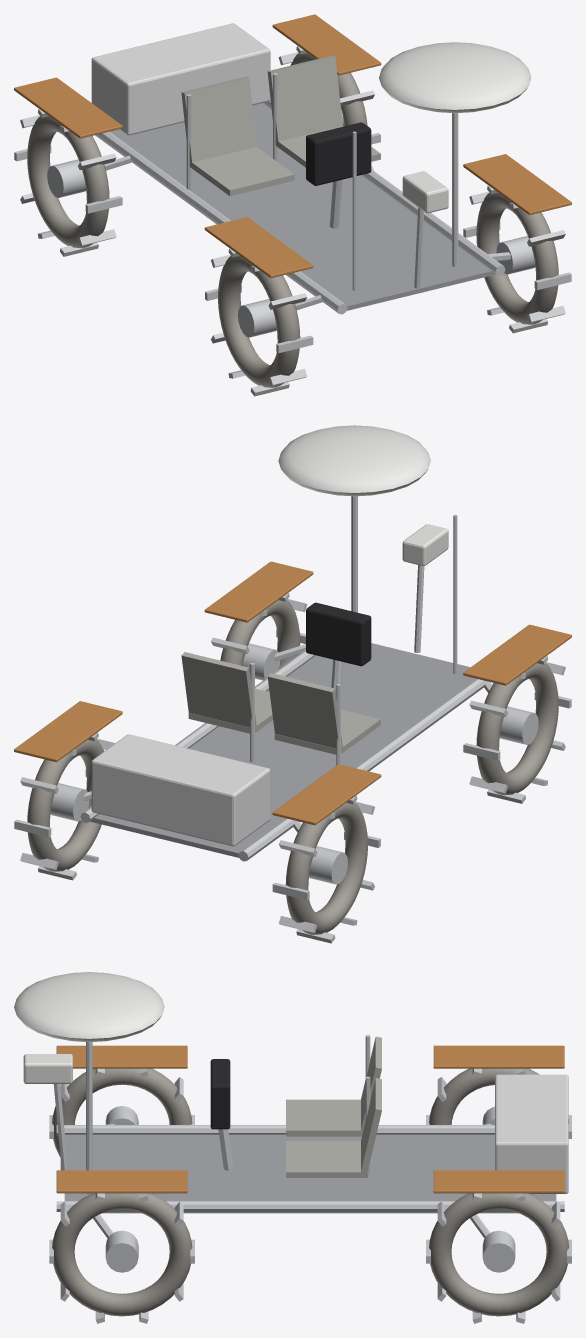
File: lrv.glb
3 renders of one model, top to bottom at view 1: azimuth 30°, elevation 25°; view 2: azimuth 150°, elevation 25°; view 3: azimuth 270°, elevation 25°, orthographic.
Visible parts, largest first — view 1: floor, rear_pallet, hga_umbrella, wheel_rl_tyre, wheel_fl_tyre, seat_back_-0.3, wheel_fr_tyre, seat_back_+0.3, console, wheel_fl_fender, wheel_rl_fender, wheel_fr_fender (+15 smaller); view 2: floor, rear_pallet, hga_umbrella, wheel_fl_tyre, wheel_rl_tyre, seat_back_+0.3, seat_back_-0.3, wheel_rr_tyre, console, wheel_fr_fender, wheel_rl_fender, wheel_fl_fender (+13 smaller); view 3: floor, hga_umbrella, wheel_fr_tyre, wheel_rr_tyre, rear_pallet, chassis_rail_+1, wheel_fl_tyre, chassis_rail_-1, wheel_rl_fender, wheel_rr_fender, wheel_fr_fender, seat_-0.3 (+12 smaller).
Part boxes in pixels (box(x1,y1,x2,y2)): floor: box(110, 103, 495, 310); rear_pallet: box(91, 23, 270, 135); hga_umbrella: box(379, 42, 531, 113); wheel_rl_tyre: box(27, 116, 109, 248); wheel_fl_tyre: box(218, 255, 300, 387); seat_back_-0.3: box(181, 76, 256, 164); wheel_fr_tyre: box(476, 192, 558, 324); seat_back_+0.3: box(267, 55, 342, 143); console: box(306, 122, 371, 185); wheel_fl_fender: box(204, 217, 313, 278); wheel_rl_fender: box(14, 77, 122, 138); wheel_fr_fender: box(463, 154, 571, 215); floor: box(90, 643, 475, 857); rear_pallet: box(91, 734, 270, 846); hga_umbrella: box(278, 425, 430, 496); wheel_fl_tyre: box(476, 663, 558, 795); wheel_rl_tyre: box(285, 802, 367, 934); seat_back_+0.3: box(181, 652, 256, 729); seat_back_-0.3: box(267, 673, 342, 748); wheel_rr_tyre: box(27, 739, 104, 871); console: box(306, 602, 371, 666); wheel_fr_fender: box(204, 561, 313, 622); wheel_rl_fender: box(272, 764, 381, 825); wheel_fl_fender: box(463, 624, 571, 685); floor: box(64, 1134, 556, 1213); hga_umbrella: box(14, 972, 164, 1042); wheel_fr_tyre: box(52, 1193, 192, 1316); wheel_rr_tyre: box(429, 1193, 569, 1316); rear_pallet: box(495, 1074, 568, 1193); chassis_rail_+1: box(56, 1201, 564, 1211); wheel_fl_tyre: box(52, 1068, 192, 1156); chassis_rail_-1: box(56, 1125, 494, 1135); wheel_rl_fender: box(433, 1045, 564, 1068); wheel_rr_fender: box(433, 1170, 564, 1193); wheel_fr_fender: box(56, 1170, 187, 1193); seat_-0.3: box(286, 1099, 363, 1136).
Size of the model in its own units: 2.63 by 2.4 by 4.26.
